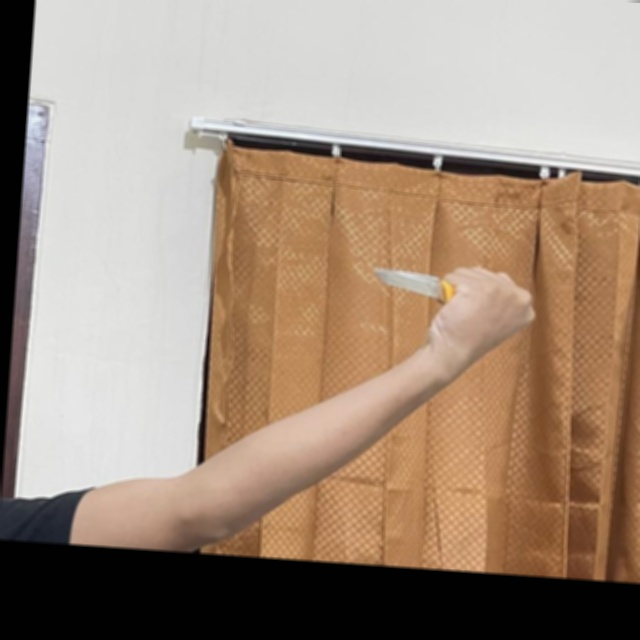Sharp-Object: (370, 266, 467, 306)
